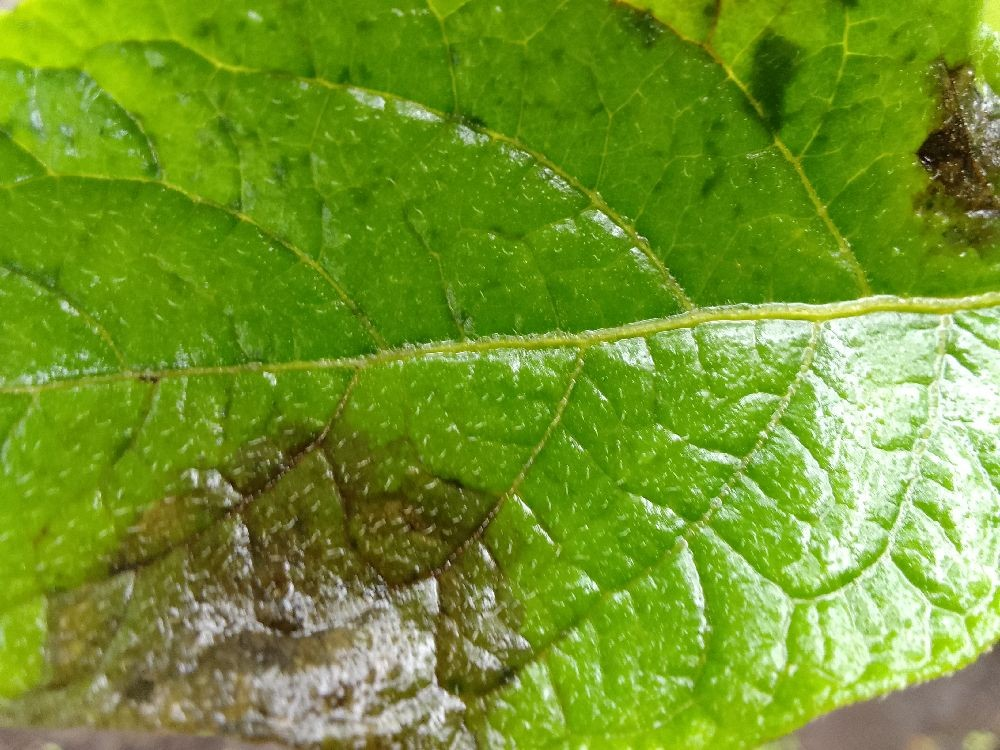late_blight: (0, 416, 503, 749), (768, 617, 1000, 750), (888, 30, 1000, 279)
